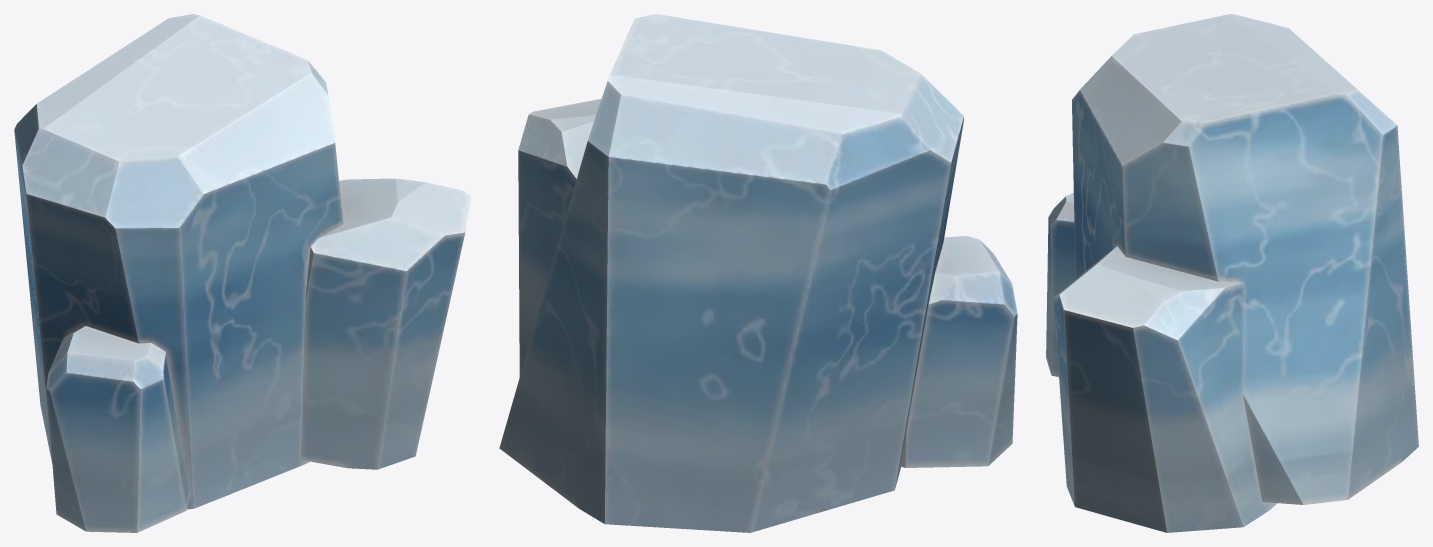
The model's file is ice_block_small.glb.
The picture shows the model from 3 angles, left to right: view 1: azimuth 30°, elevation 25°; view 2: azimuth 150°, elevation 25°; view 3: azimuth 270°, elevation 25°; orthographic projection. The views are drawn at different scales.
Parts seen in each view (by area): view 1: Static_Mesh; view 2: Static_Mesh; view 3: Static_Mesh.
Boxes of the visible parts, x1=… form: Static_Mesh: x1=14, y1=14, x2=470, y2=532; Static_Mesh: x1=499, y1=14, x2=1017, y2=532; Static_Mesh: x1=1046, y1=14, x2=1418, y2=532.
Bounding box in the file's own units: 1.51 × 1.24 × 1.13.
Materials: 1 (1 with a texture image).
